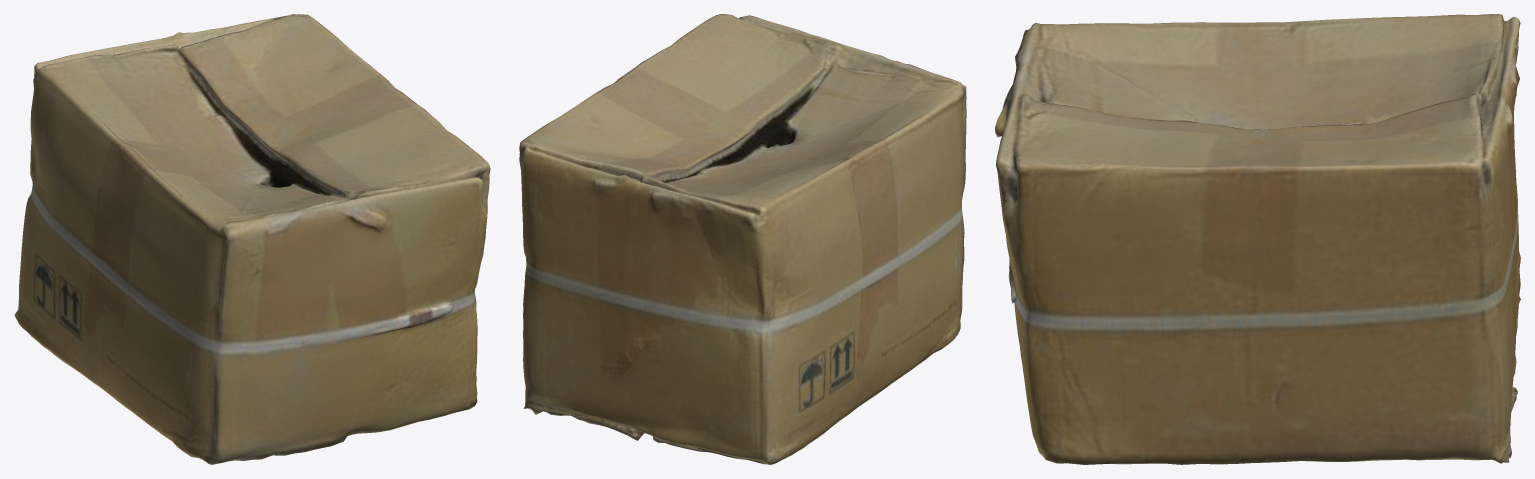
The model's file is cardboard_box_01.glb.
3 views of the same model, side by side, from view 1: azimuth 30°, elevation 25°; view 2: azimuth 150°, elevation 25°; view 3: azimuth 270°, elevation 25° (orthographic). The views are drawn at different scales.
Parts seen in each view (by area): view 1: cardboard_box_01; view 2: cardboard_box_01; view 3: cardboard_box_01.
Part boxes in pixels (<box>): cardboard_box_01: <box>14,14,490,464</box>; cardboard_box_01: <box>519,14,966,464</box>; cardboard_box_01: <box>995,14,1520,464</box>.
Bounding box in the file's own units: 0.387 × 0.3418 × 0.5159.
1 material, 1 textured.
